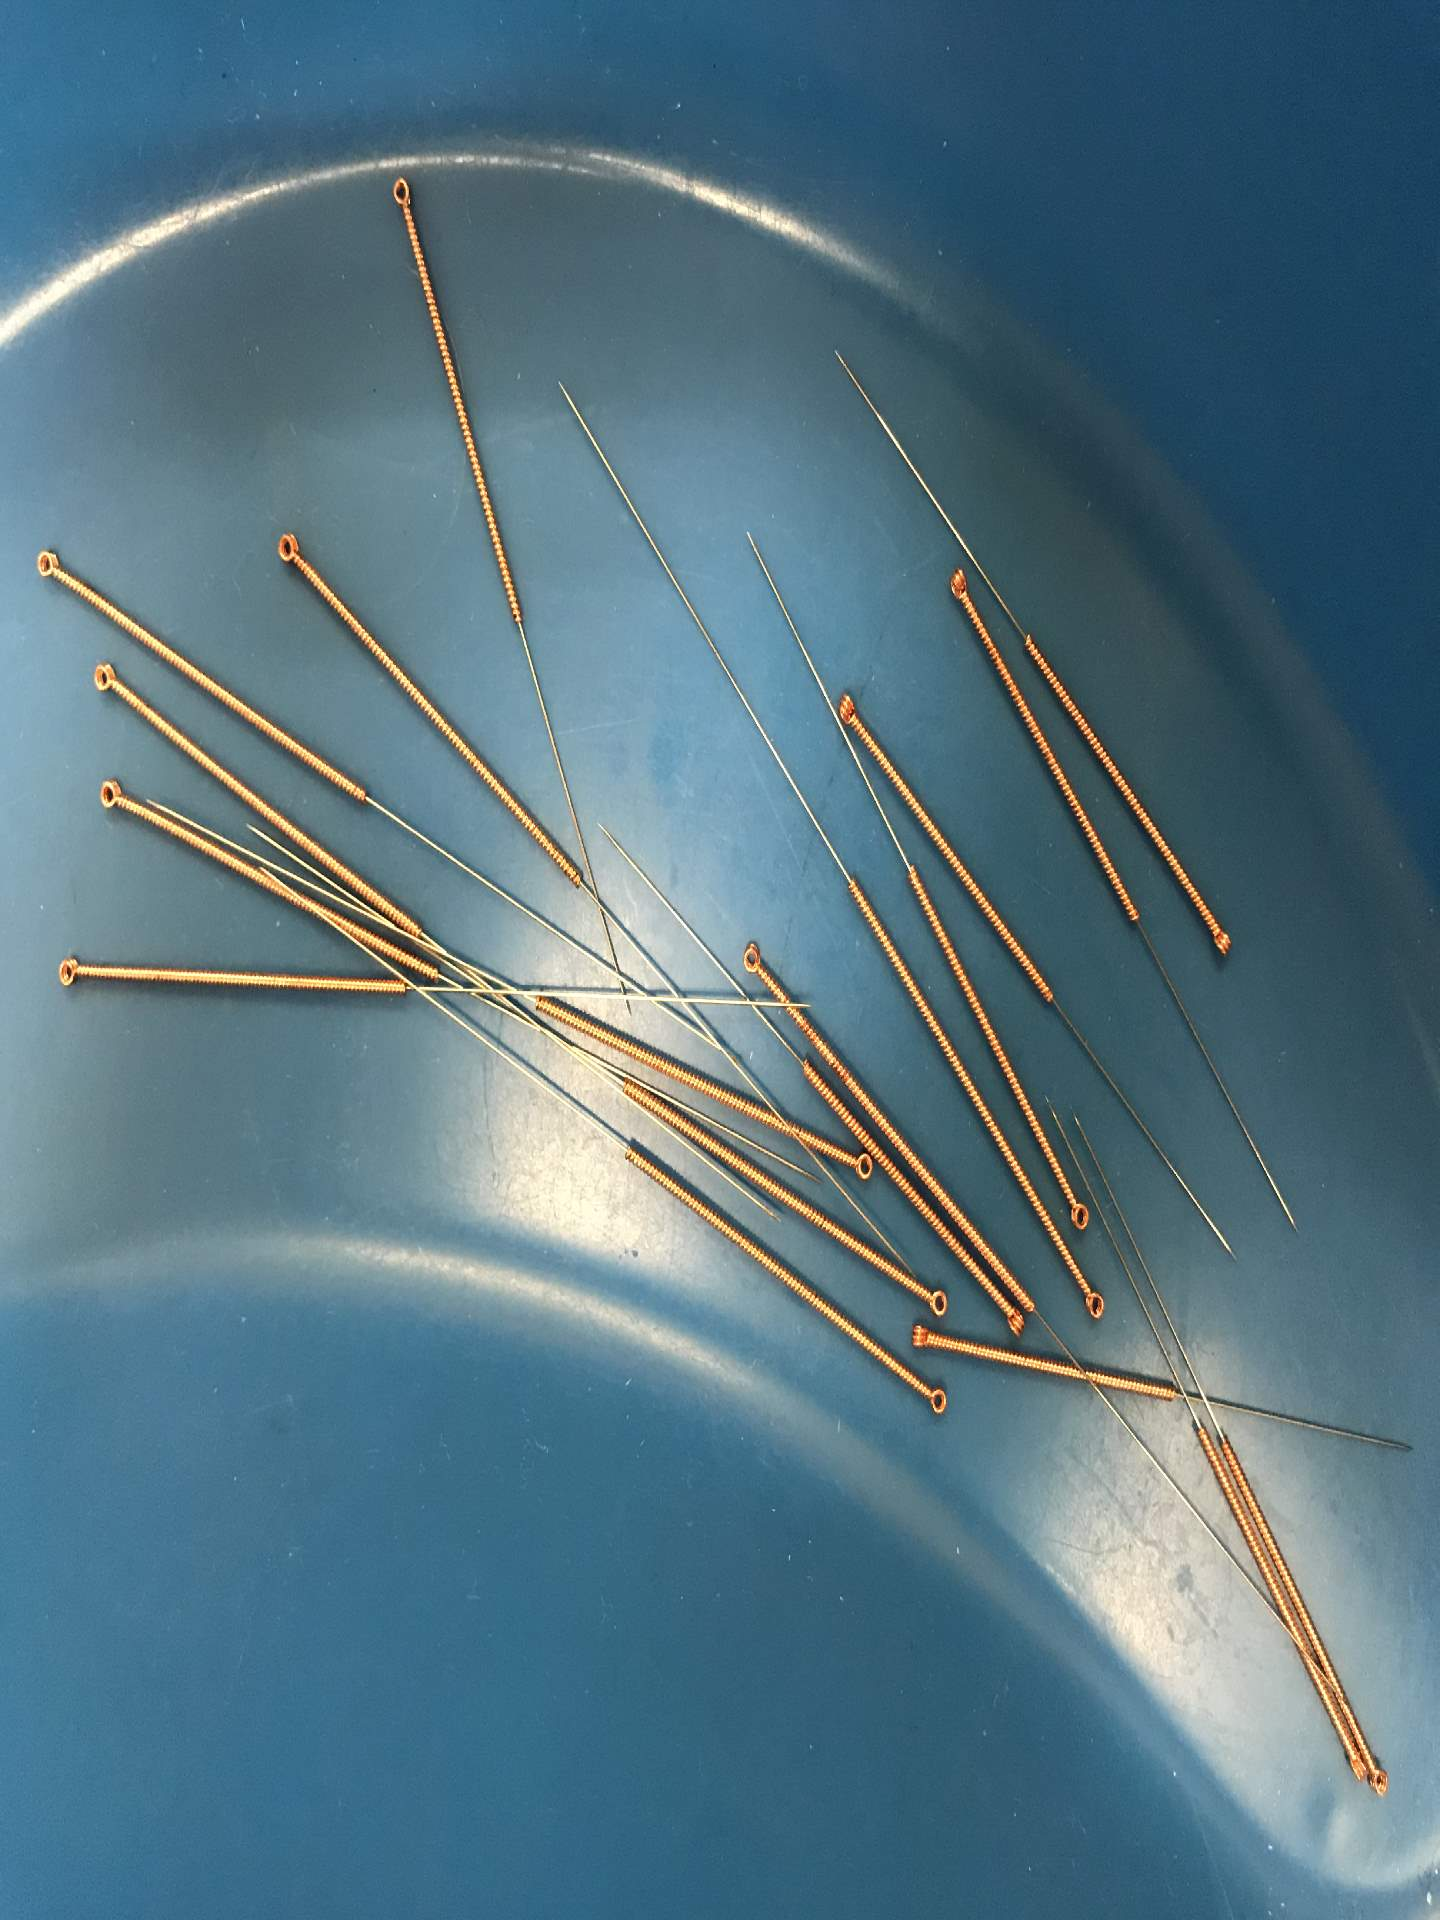needle: (1196, 912, 1242, 966), (268, 522, 312, 574), (89, 770, 132, 822), (85, 652, 127, 703), (914, 1374, 954, 1426), (938, 558, 976, 612), (830, 683, 868, 738), (384, 166, 419, 222), (48, 949, 88, 996), (29, 541, 67, 588), (1075, 1281, 1110, 1329), (735, 937, 768, 986), (1063, 1188, 1094, 1240), (902, 1315, 936, 1358), (918, 1279, 953, 1318), (997, 1305, 1032, 1342), (1366, 1761, 1395, 1801), (846, 1150, 877, 1184), (1346, 1751, 1369, 1785)
